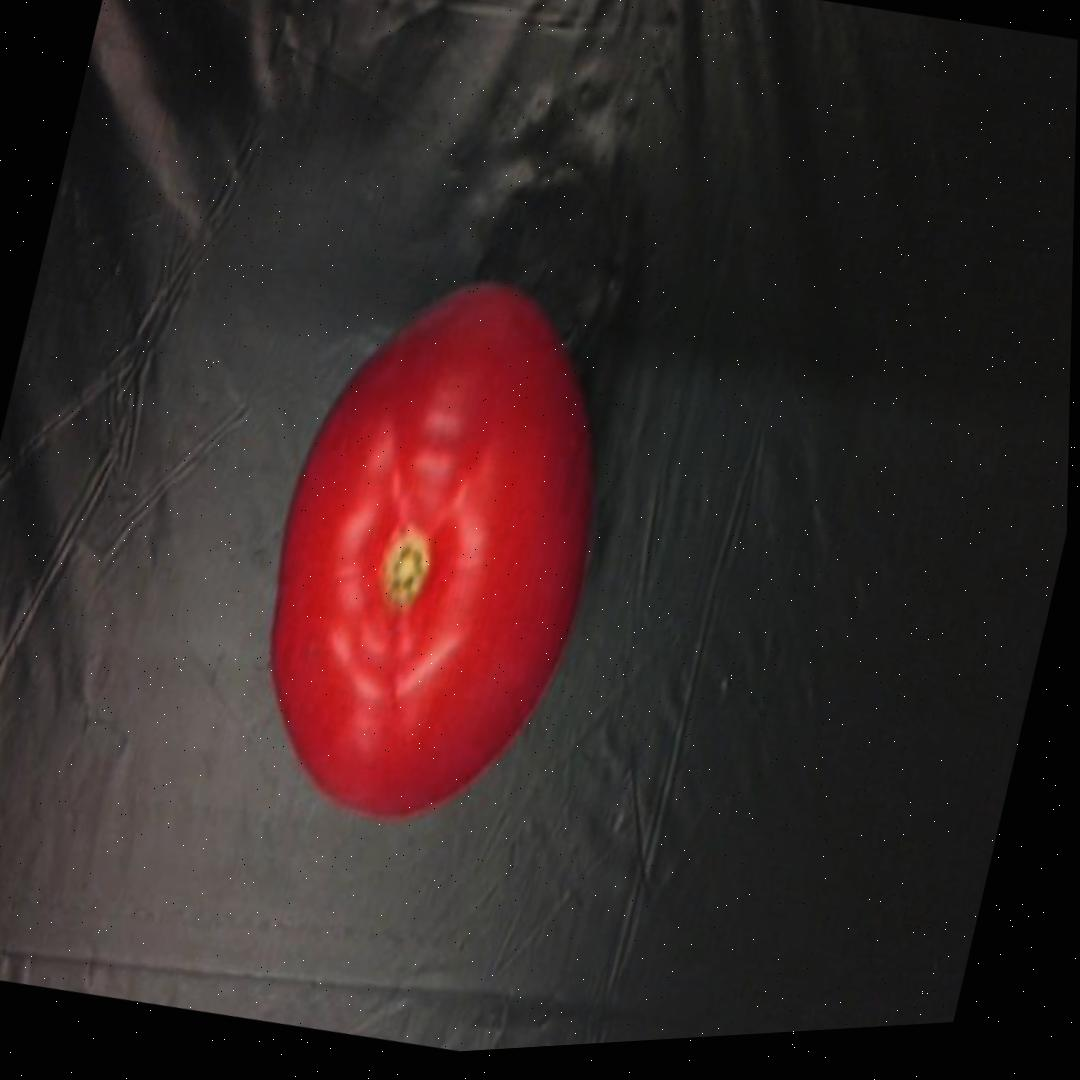matang: (220, 239, 647, 854)
